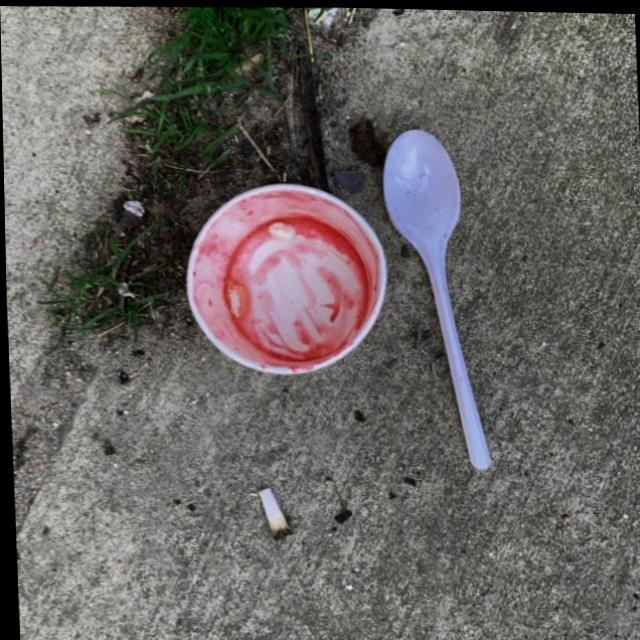Paper: (179, 177, 391, 379)
